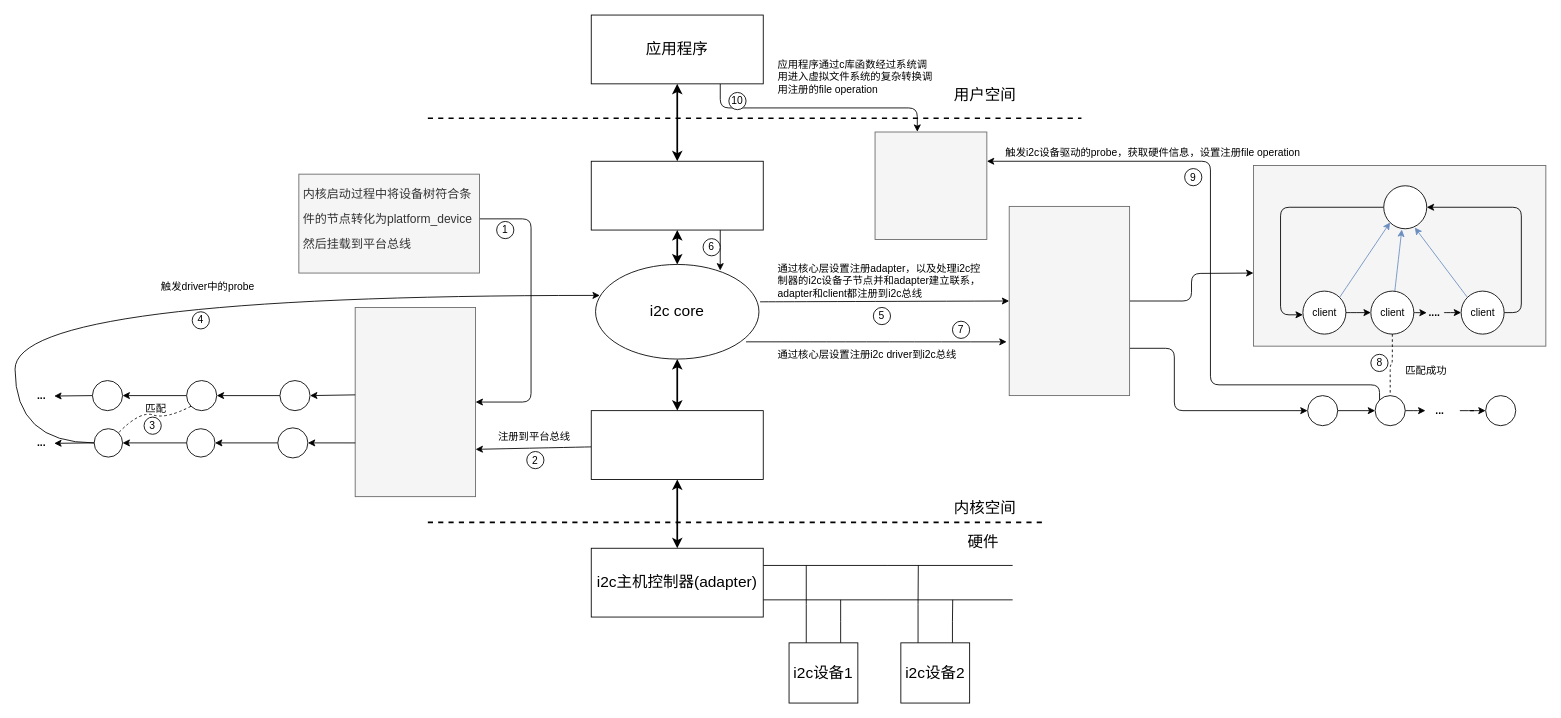
The diagram is 1561 pixels wide and 718 high, and some of its shapes have lost their labels. The shapes that lost their labels are listed below. From the top down, each one's centre as x and y in pixels, then its label:
pixel 676 195: i2c设备驱动
pixel 930 185: file operation ... xx_read xx_write ...
pixel 1405 207: adapter
pixel 1069 301: i2c_bus_type ... devices drivers ...
pixel 415 402: platform_bus_type ... devices drivers ...
pixel 676 444: i2c主机控制器驱动(adapter)
